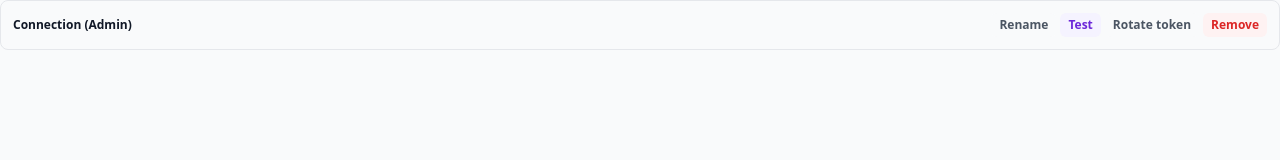
Test: DataAgentConnectionPanel › surfaces a remove error instead of silently doing nothing
Click the button "Remove": (1235, 25) [1203, 13, 1267, 37]
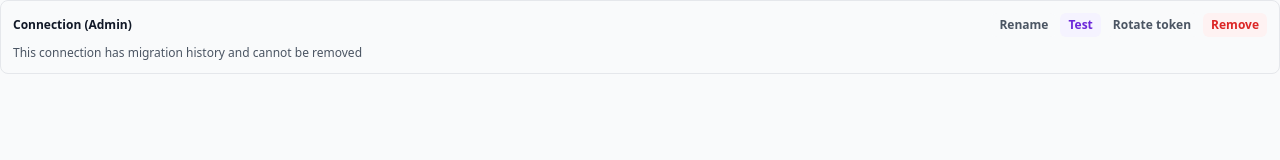
Expected: the text "This connection has migration history and cannot be removed" is shown, [13, 44, 362, 61]
